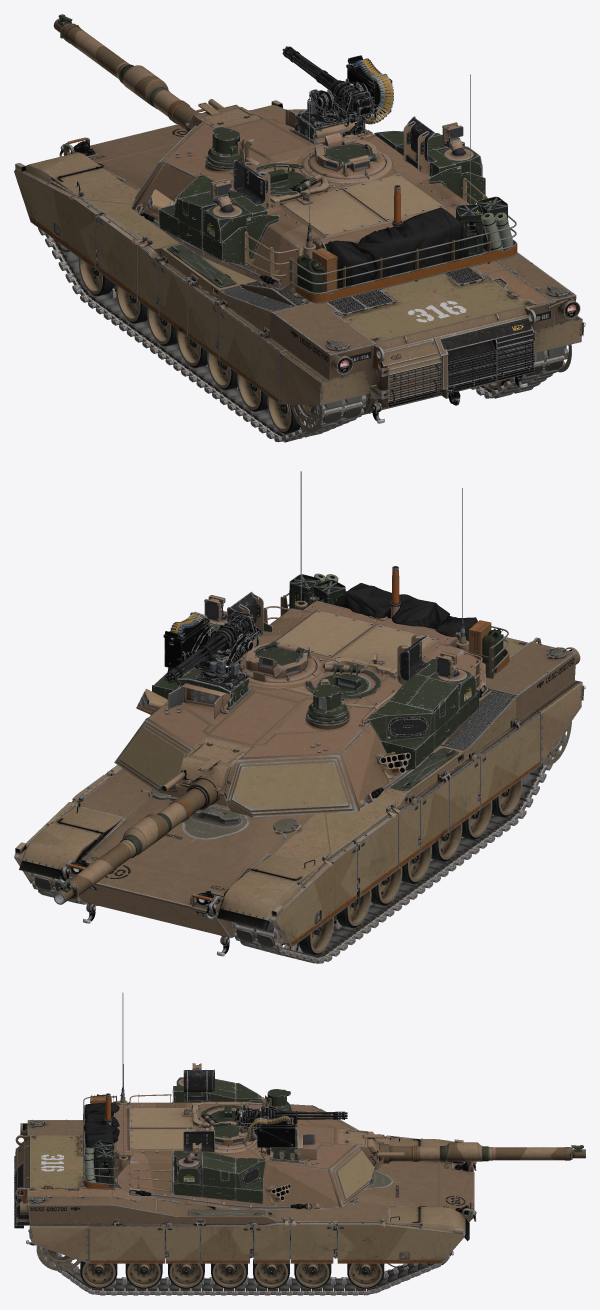
The picture shows the model from 3 angles, top to bottom: view 1: azimuth 30°, elevation 25°; view 2: azimuth 150°, elevation 25°; view 3: azimuth 270°, elevation 25°; orthographic projection. The views are drawn at different scales.
Visible parts, largest first — view 1: turret_atlas, gun_chassis_hull_details_atlas, hull_atlas, hull armor screens, customization_atla, left track, tarpaulin, welds, atlas_lattice, left track.001, decals, aps launcher; view 2: turret_atlas, gun_chassis_hull_details_atlas, hull_atlas, hull armor screens, customization_atla, welds, left track, tarpaulin, atlas_lattice, aps launcher, glass, antenas; view 3: turret_atlas, gun_chassis_hull_details_atlas, hull armor screens, hull_atlas, customization_atla, left track.001, welds, tarpaulin, decals.
Part boxes in pixels (x1=…): turret_atlas: x1=131, y1=109, x2=487, y2=290; gun_chassis_hull_details_atlas: x1=26, y1=14, x2=571, y2=433; hull_atlas: x1=62, y1=107, x2=580, y2=415; hull armor screens: x1=14, y1=100, x2=585, y2=405; customization_atla: x1=59, y1=46, x2=576, y2=423; left track: x1=38, y1=180, x2=366, y2=442; tarpaulin: x1=325, y1=207, x2=468, y2=288; welds: x1=22, y1=23, x2=581, y2=414; atlas_lattice: x1=221, y1=267, x2=481, y2=312; left track.001: x1=471, y1=346, x2=568, y2=398; decals: x1=91, y1=127, x2=550, y2=362; aps launcher: x1=211, y1=122, x2=463, y2=204; turret_atlas: x1=114, y1=566, x2=488, y2=817; gun_chassis_hull_details_atlas: x1=19, y1=636, x2=582, y2=955; hull_atlas: x1=62, y1=634, x2=580, y2=943; hull armor screens: x1=14, y1=680, x2=585, y2=947; customization_atla: x1=59, y1=573, x2=572, y2=956; welds: x1=15, y1=596, x2=582, y2=937; left track: x1=232, y1=711, x2=566, y2=963; tarpaulin: x1=334, y1=583, x2=477, y2=641; atlas_lattice: x1=441, y1=690, x2=512, y2=750; aps launcher: x1=204, y1=595, x2=456, y2=678; glass: x1=73, y1=657, x2=354, y2=902; antenas: x1=294, y1=471, x2=468, y2=646; turret_atlas: x1=104, y1=1069, x2=374, y2=1209; gun_chassis_hull_details_atlas: x1=14, y1=1129, x2=585, y2=1288; hull armor screens: x1=28, y1=1134, x2=464, y2=1267; hull_atlas: x1=14, y1=1119, x2=476, y2=1257; customization_atla: x1=23, y1=1094, x2=476, y2=1255; left track.001: x1=40, y1=1224, x2=452, y2=1295; welds: x1=15, y1=1079, x2=582, y2=1258; tarpaulin: x1=83, y1=1102, x2=119, y2=1147; decals: x1=19, y1=1148, x2=465, y2=1211.
Size of the model in its own units: 3.8 by 4.44 by 9.81.
Materials: 22 (21 with a texture image).
